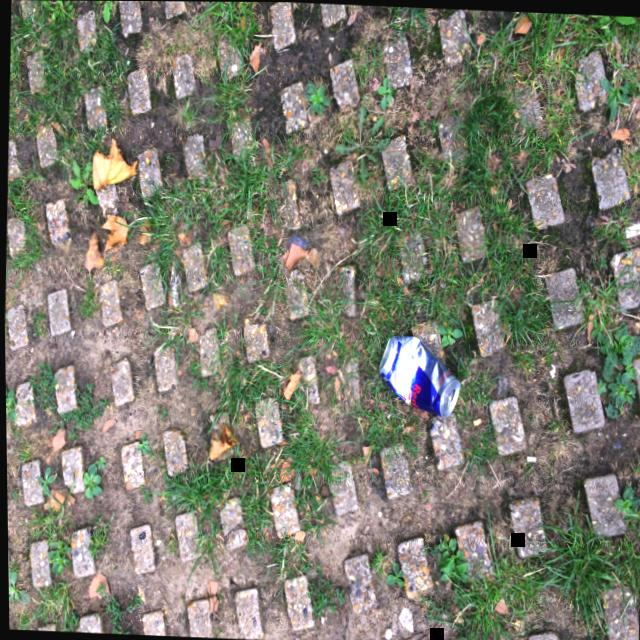Cigarette: (525, 454, 535, 460)
Drink can: (377, 333, 458, 416)
